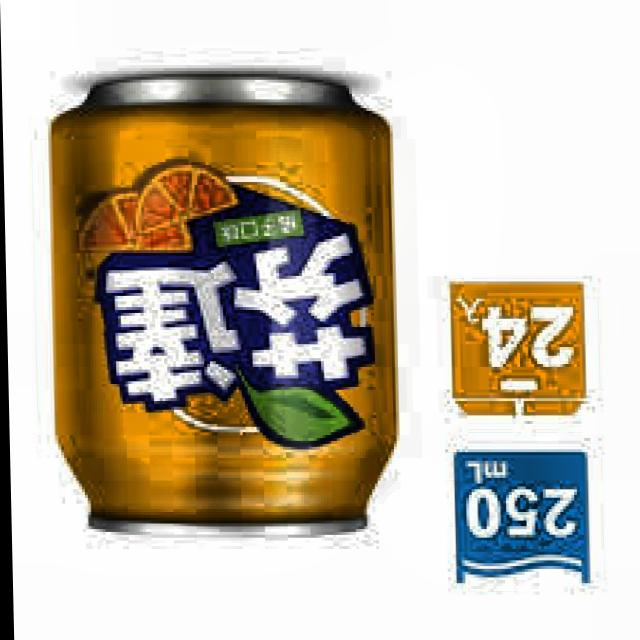can: (37, 61, 417, 548)
